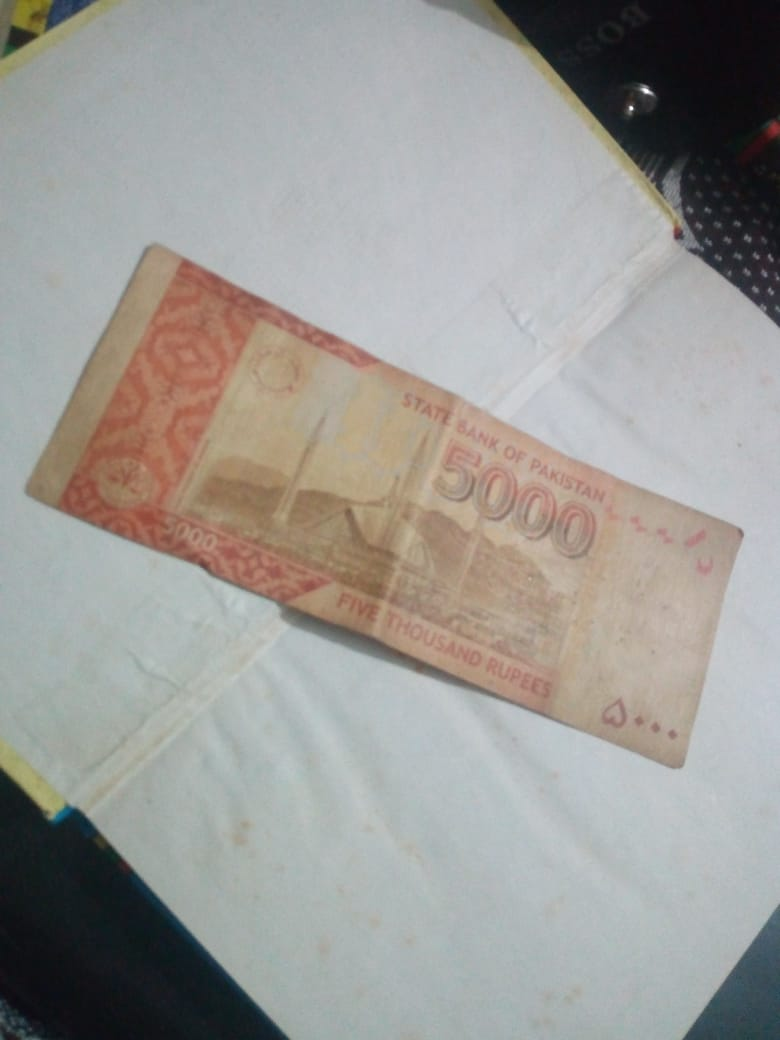5000 rupee: (45, 254, 731, 768)
